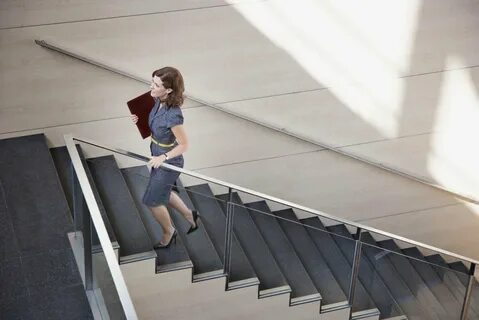awake: (129, 66, 202, 250)
